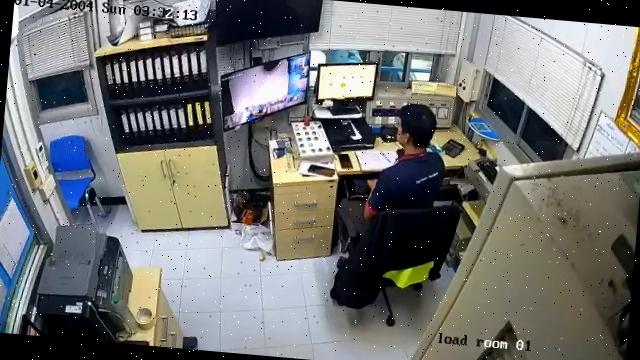Head: (398, 105, 436, 148)
People: (339, 104, 445, 236)
Phone: (308, 164, 334, 176), (339, 154, 352, 169)
